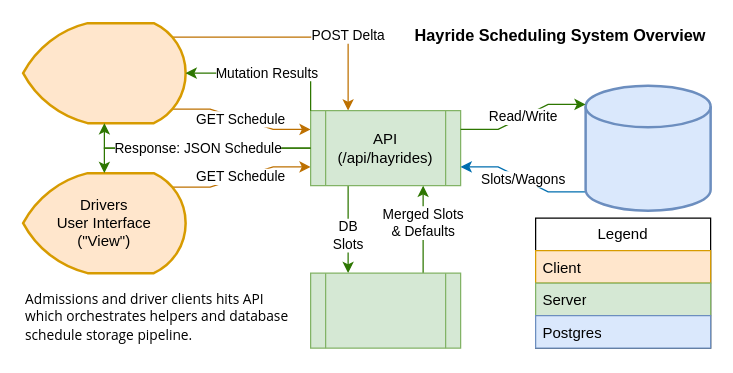
The diagram is 733 pixels wide and 373 high, and some of its shapes have lost their labels. The shapes that lost their labels are listed below. From the top down, each one's box as (x1, y1, x2, y2) in pixels, then its label:
(21, 21, 186, 124): Admission Booth User Interface ("Edit")
(584, 84, 711, 211): Neon Database
(309, 272, 461, 348): Slots & Wagons Helpers
